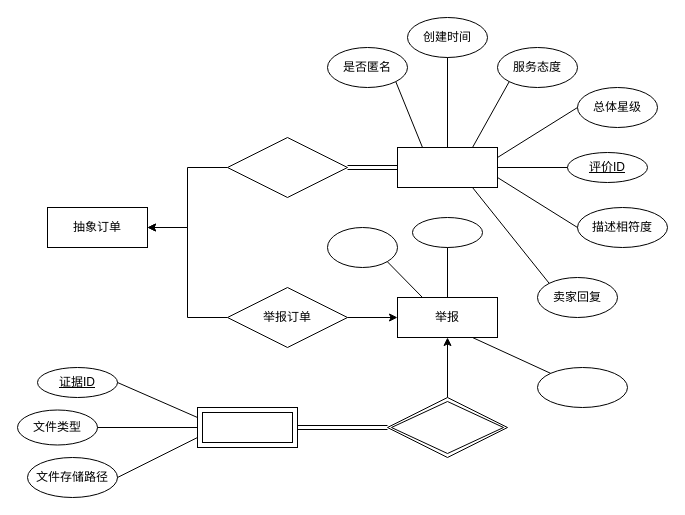
Some shapes in this 685 by 515 pixel diagram are drawn without their labels. The centre of each missing label's shape, as x and y in pixels:
"举报ID" belongs at point (362, 247).
"举报上传" belongs at point (447, 427).
"举报证据" belongs at point (247, 427).
"关联订单" belongs at point (287, 167).
"处理优先级" belongs at point (582, 387).
"类型" belongs at point (447, 232).
"评价反馈" belongs at point (447, 167).
